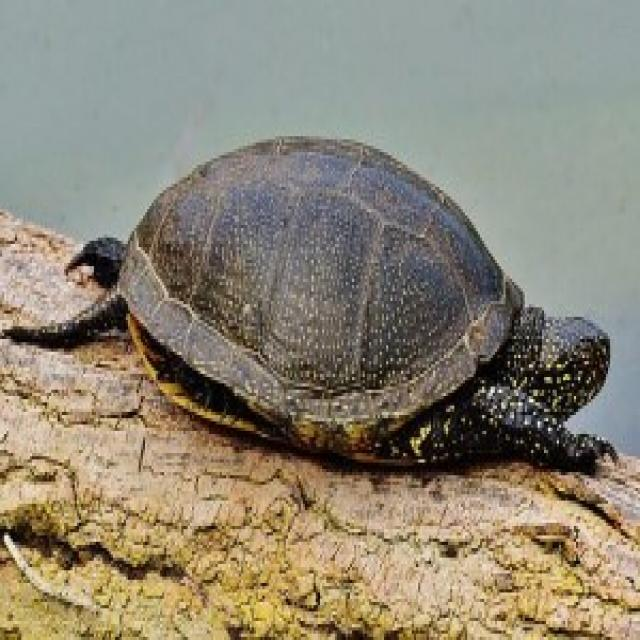Sea turtle: (65, 132, 608, 474)
